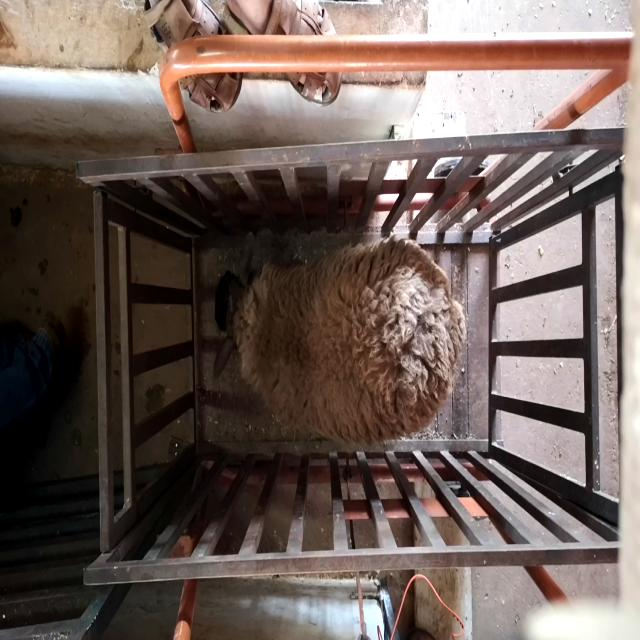sheep: (213, 229, 466, 445)
